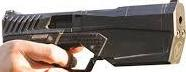gun: (1, 1, 186, 72)
